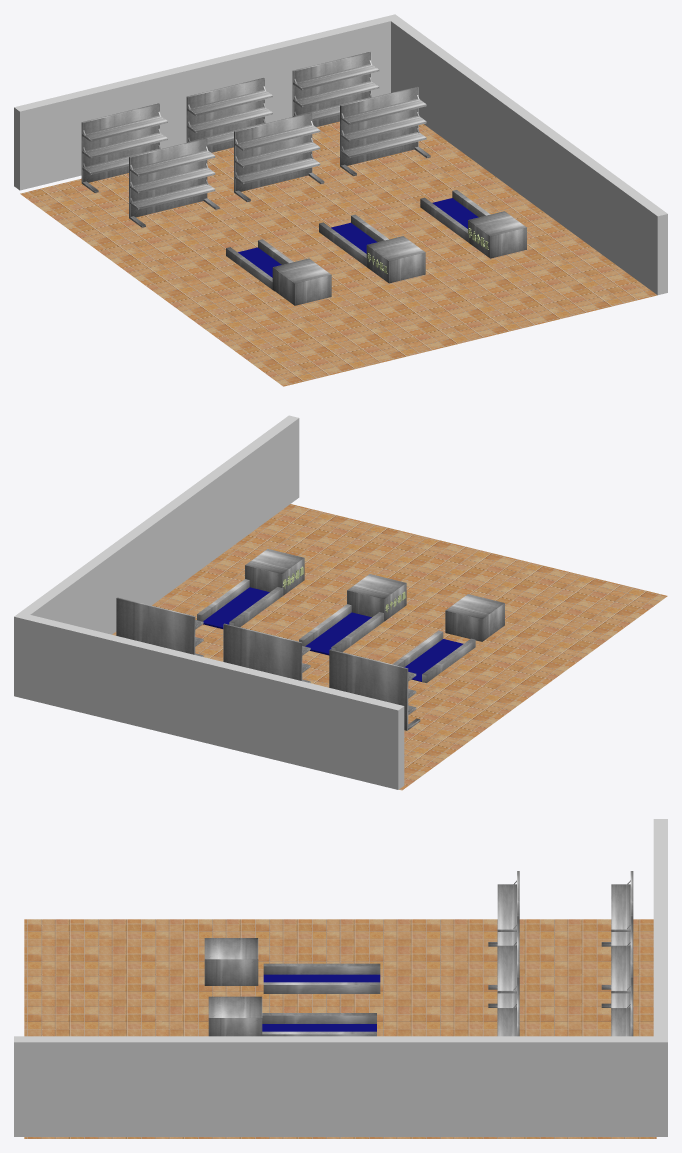
File: 仓库无缩放.obj
3 renders of one model, top to bottom at view 1: azimuth 30°, elevation 25°; view 2: azimuth 150°, elevation 25°; view 3: azimuth 270°, elevation 25°, orthographic. The views are drawn at different scales.
Visible parts, largest first — view 1: Plane001, Box004, Box005, Box008, Box007, Box006, Box001, Box003, Box002, Rectangle020, Rectangle031, Rectangle027 (+21 smaller); view 2: Plane001, Box005, Box004, Box006, Box007, Box008, Rectangle020, Rectangle031, Rectangle027, Rectangle028, Rectangle024, Rectangle021 (+5 smaller); view 3: Box004, Plane001, Box005, Rectangle020, Rectangle031, Rectangle022, Rectangle023, Rectangle030, Rectangle021, Rectangle013, Rectangle037, Rectangle035 (+5 smaller).
Part boxes in pixels (bbox=[...]): Plane001: bbox=[20, 121, 657, 386]; Box004: bbox=[385, 14, 667, 295]; Box005: bbox=[14, 15, 398, 190]; Box008: bbox=[340, 86, 418, 166]; Box007: bbox=[234, 112, 312, 192]; Box006: bbox=[129, 138, 207, 218]; Box001: bbox=[81, 103, 159, 183]; Box003: bbox=[292, 52, 371, 126]; Box002: bbox=[186, 78, 264, 152]; Rectangle020: bbox=[272, 258, 331, 305]; Rectangle031: bbox=[366, 236, 425, 283]; Rectangle027: bbox=[468, 211, 526, 258]; Plane001: bbox=[112, 504, 667, 790]; Box005: bbox=[14, 615, 404, 789]; Box004: bbox=[14, 415, 299, 696]; Box006: bbox=[329, 649, 408, 730]; Box007: bbox=[223, 623, 302, 680]; Box008: bbox=[116, 597, 195, 654]; Rectangle020: bbox=[445, 594, 504, 641]; Rectangle031: bbox=[347, 574, 406, 621]; Rectangle027: bbox=[245, 549, 304, 595]; Rectangle028: bbox=[305, 612, 371, 655]; Rectangle024: bbox=[203, 587, 269, 628]; Rectangle021: bbox=[404, 639, 463, 681]; Box004: bbox=[14, 1036, 667, 1136]; Plane001: bbox=[24, 919, 656, 1138]; Box005: bbox=[653, 819, 667, 1038]; Rectangle020: bbox=[204, 938, 258, 985]; Rectangle031: bbox=[208, 996, 262, 1036]; Rectangle022: bbox=[263, 982, 380, 993]; Rectangle023: bbox=[263, 963, 380, 974]; Rectangle030: bbox=[262, 1013, 376, 1023]; Rectangle021: bbox=[263, 974, 380, 982]; Rectangle013: bbox=[611, 945, 630, 993]; Rectangle037: bbox=[497, 945, 516, 993]; Rectangle035: bbox=[497, 884, 516, 931].
Size of the model in its own units: 4383 by 925 by 5430.
